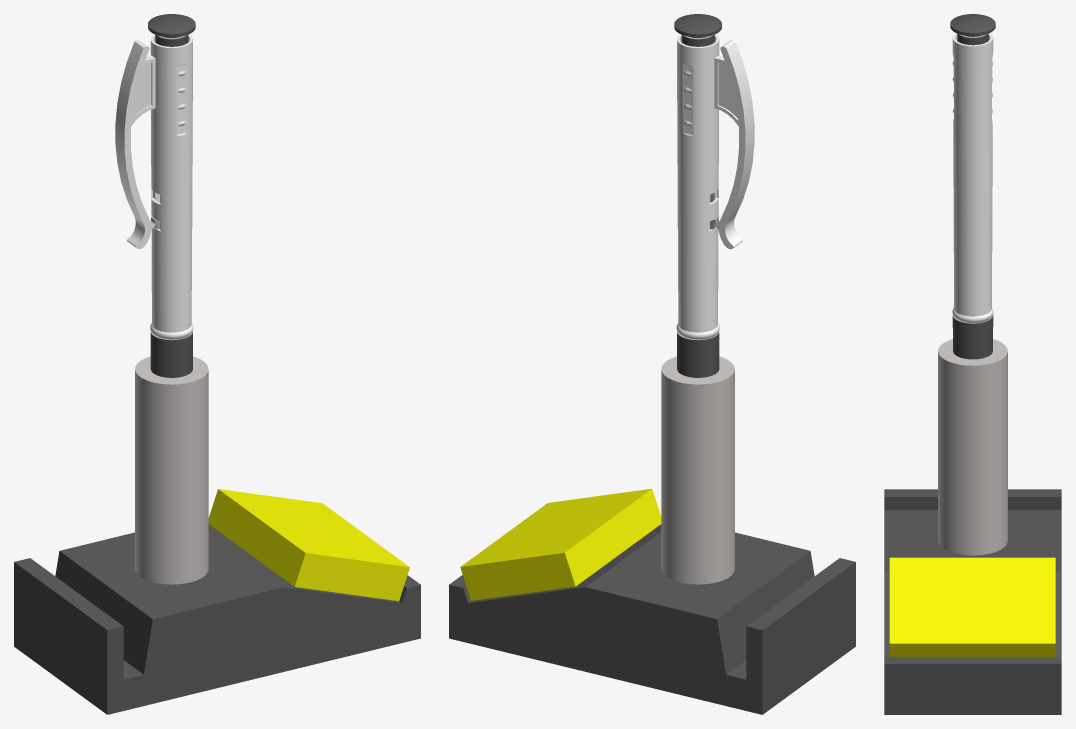
The model's file is config9.glb.
3 views of the same model, side by side, from view 1: azimuth 30°, elevation 25°; view 2: azimuth 150°, elevation 25°; view 3: azimuth 270°, elevation 25° (orthographic). The views are drawn at different scales.
Visible parts, largest first — view 1: Socle-2, SADC-SADC Pen_SADC 001-1, Porte stylo-1, post it-1, SADC-SADC Pen_SADC 002-2, SADC-SADC Pen_SADC 005-1; view 2: Socle-2, SADC-SADC Pen_SADC 001-1, Porte stylo-1, post it-1, SADC-SADC Pen_SADC 002-2, SADC-SADC Pen_SADC 005-1; view 3: Socle-2, post it-1, Porte stylo-1, SADC-SADC Pen_SADC 001-1, SADC-SADC Pen_SADC 002-2, SADC-SADC Pen_SADC 005-1.
Part boxes in pixels (<box>): Socle-2: <box>14,524,420,714</box>; SADC-SADC Pen_SADC 001-1: <box>115,34,193,339</box>; Porte stylo-1: <box>135,356,208,584</box>; post it-1: <box>208,489,409,601</box>; SADC-SADC Pen_SADC 002-2: <box>150,331,192,377</box>; SADC-SADC Pen_SADC 005-1: <box>148,14,195,229</box>; Socle-2: <box>449,524,855,714</box>; SADC-SADC Pen_SADC 001-1: <box>676,34,754,339</box>; Porte stylo-1: <box>661,356,734,584</box>; post it-1: <box>460,488,661,600</box>; SADC-SADC Pen_SADC 002-2: <box>677,331,719,377</box>; SADC-SADC Pen_SADC 005-1: <box>674,14,721,229</box>; Socle-2: <box>884,489,1061,714</box>; post it-1: <box>889,557,1055,657</box>; Porte stylo-1: <box>938,339,1007,555</box>; SADC-SADC Pen_SADC 001-1: <box>952,33,993,322</box>; SADC-SADC Pen_SADC 002-2: <box>952,315,993,359</box>; SADC-SADC Pen_SADC 005-1: <box>950,14,995,45</box>.
Size of the model in its own units: 0.0984 by 0.1899 by 0.0508.
